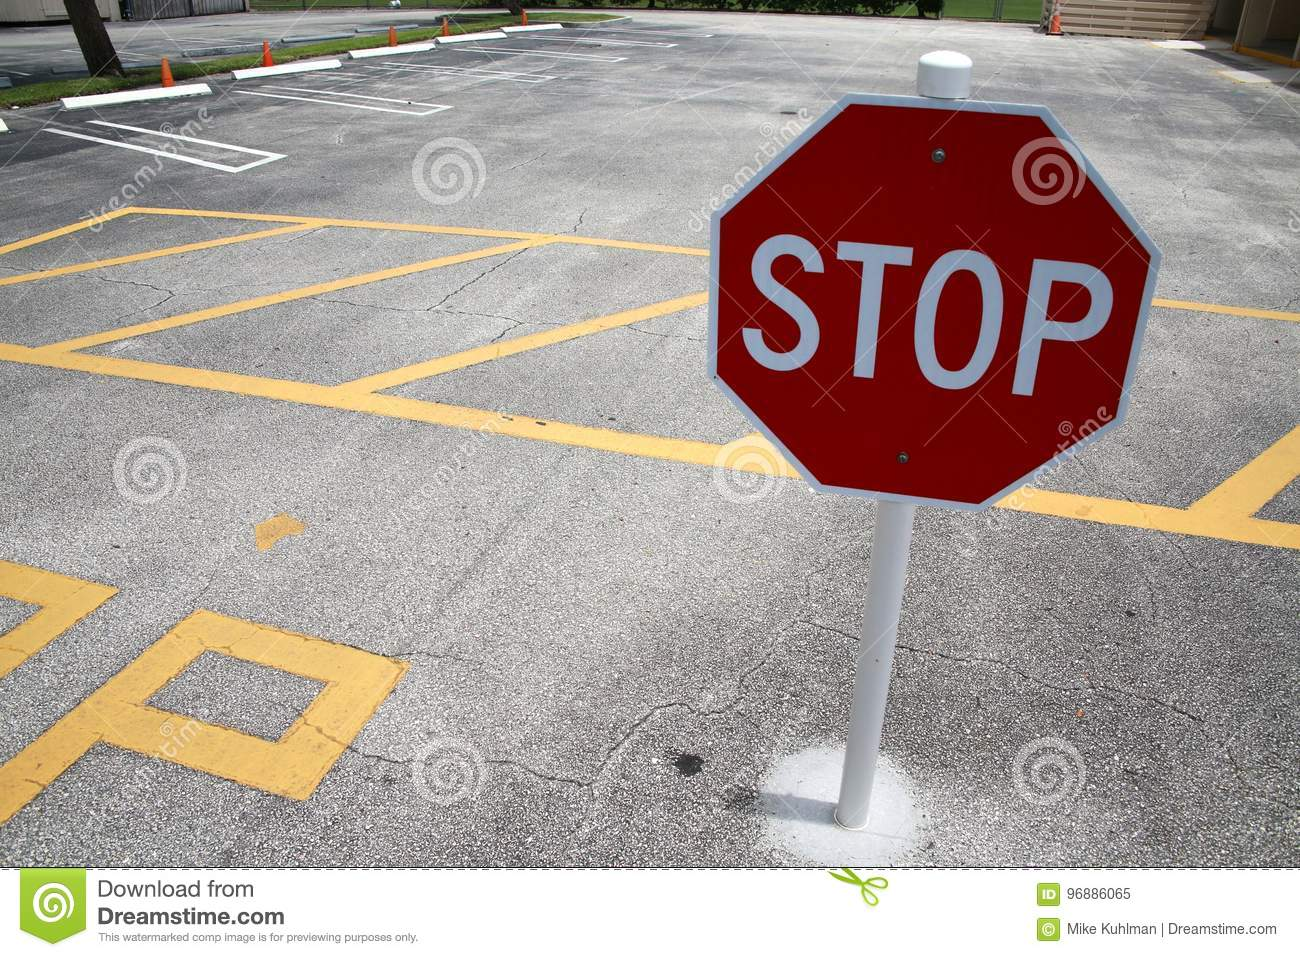stopsign: (706, 98, 1158, 513)
